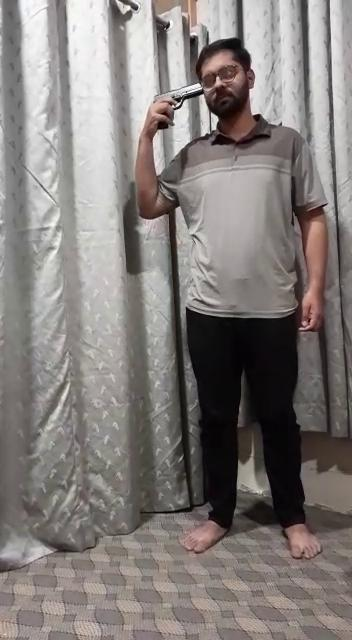criminal: (133, 35, 329, 561)
weapon: (150, 79, 206, 132)
